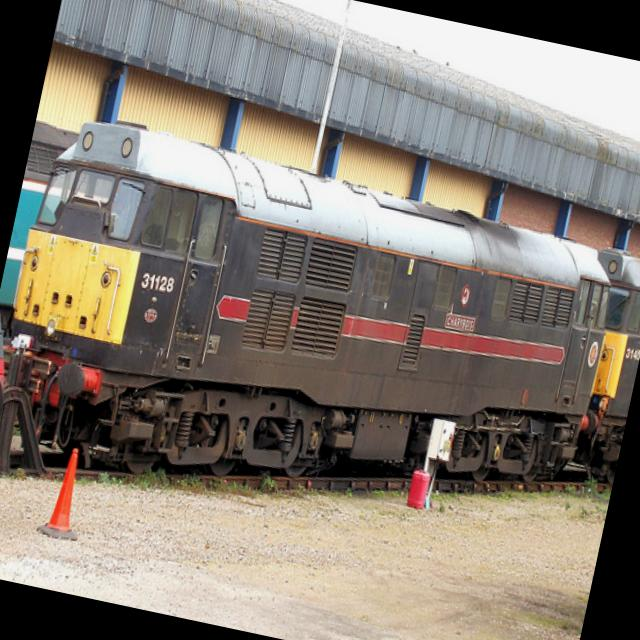Vehicle: (0, 293, 35, 535)
